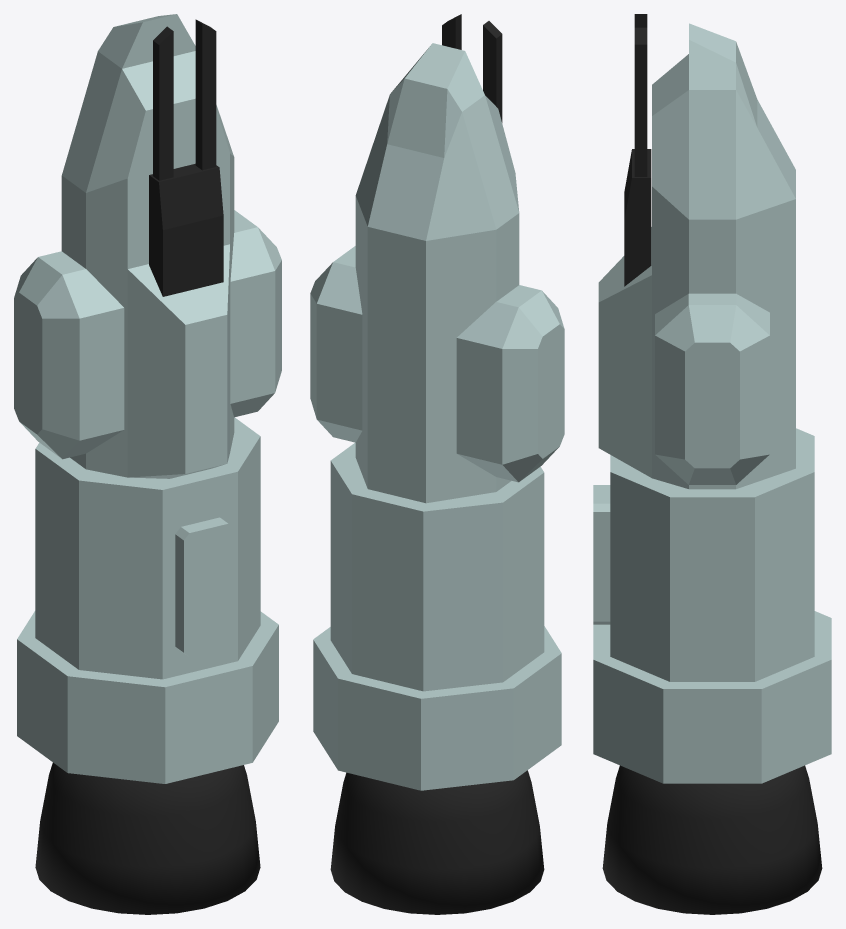
Rendered from Ship2.fbx.
3 views of the same model, side by side, from view 1: azimuth 30°, elevation 25°; view 2: azimuth 150°, elevation 25°; view 3: azimuth 270°, elevation 25° (orthographic). The views are drawn at different scales.
Parts seen in each view (by area): view 1: Ship2; view 2: Ship2; view 3: Ship2.
Boxes of the visible parts, x1,y1,x2,y2 form: Ship2: (14,14,281,914); Ship2: (310,14,564,914); Ship2: (593,14,831,914).
Size of the model in its own units: 137 by 120 by 473.
